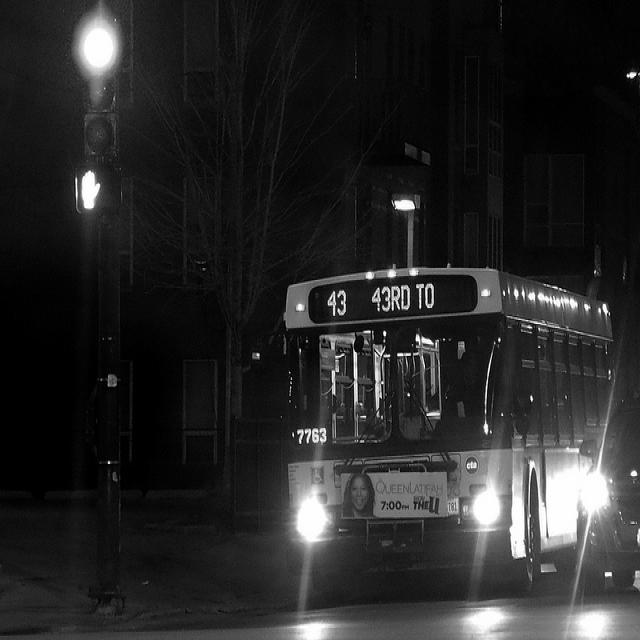Bus: (278, 250, 625, 599)
